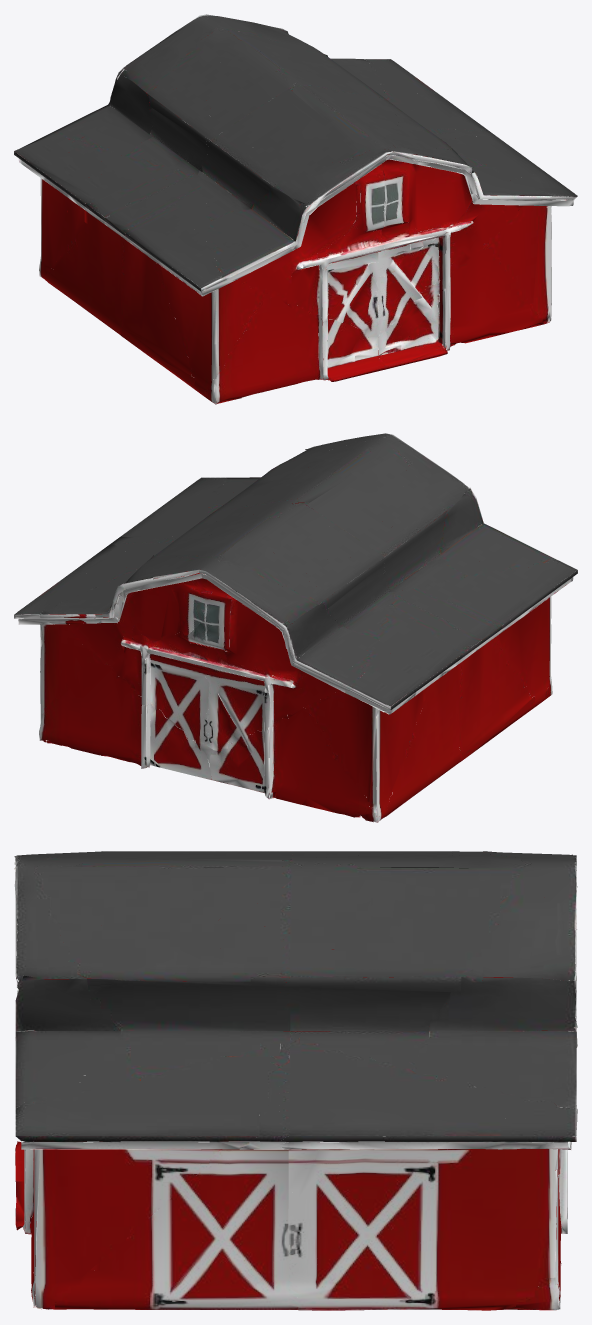
Rendered from barn.7916c6f22227.glb.
3 views of the same model, one above another, from view 1: azimuth 30°, elevation 25°; view 2: azimuth 150°, elevation 25°; view 3: azimuth 270°, elevation 25° (orthographic). The views are drawn at different scales.
Parts seen in each view (by area): view 1: Mesh_0; view 2: Mesh_0; view 3: Mesh_0.
Part boxes in pixels (x1,y1,x2,y2): Mesh_0: (14,14,577,404); Mesh_0: (14,433,577,822); Mesh_0: (14,851,577,1310).
Size of the model in its own units: 12.74 by 7 by 11.
Materials: 1 (1 with a texture image).
